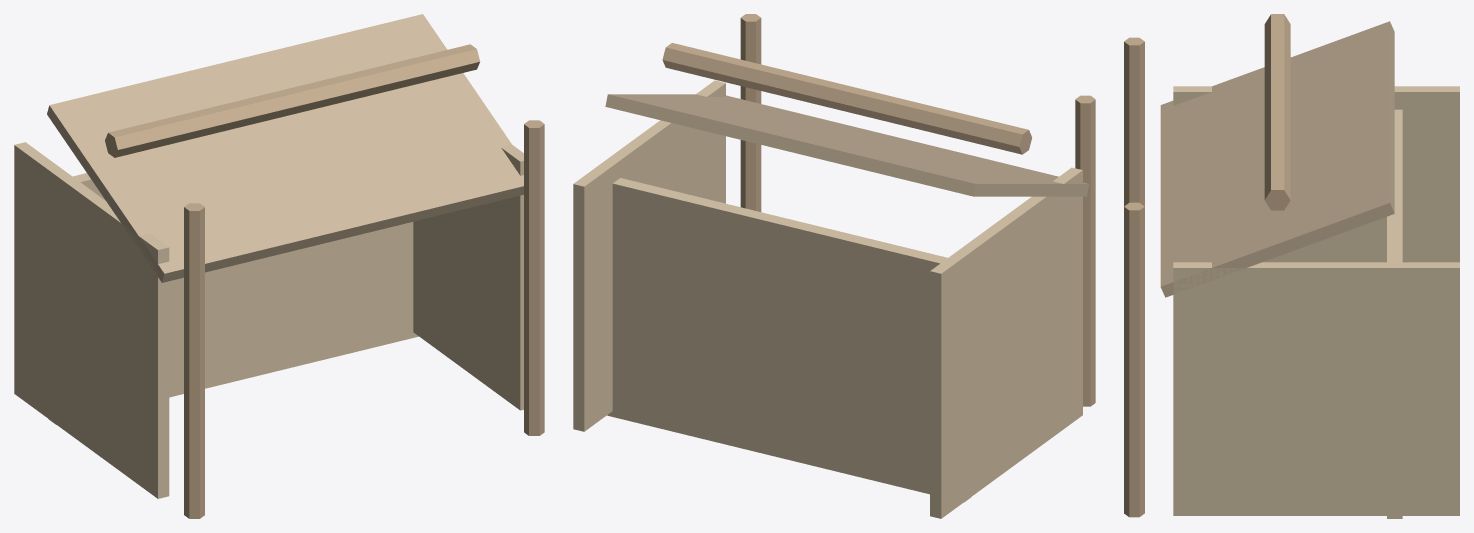
Rendered from tent.glb.
3 views of the same model, side by side, from view 1: azimuth 30°, elevation 25°; view 2: azimuth 150°, elevation 25°; view 3: azimuth 270°, elevation 25° (orthographic).
Visible parts, largest first — view 1: tent; view 2: tent; view 3: tent.
Boxes of the visible parts, left/top/right/bottom form: tent: left=14, top=14, right=544, bottom=518; tent: left=573, top=14, right=1095, bottom=518; tent: left=1124, top=14, right=1459, bottom=518.
Size of the model in its own units: 1.65 by 1.39 by 1.29.
